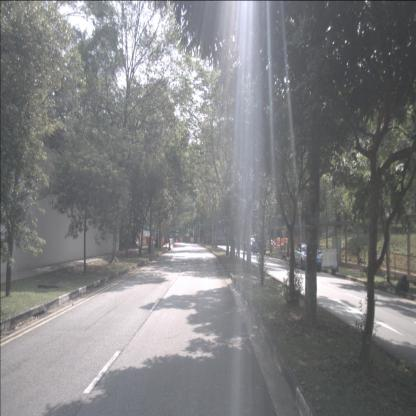movable_object-barrier: (318, 249, 338, 267), (146, 237, 155, 245), (156, 238, 162, 246), (168, 240, 172, 250), (170, 240, 173, 249)
vehicle-car: (292, 242, 322, 273), (244, 237, 256, 252)
vehicle-truck: (252, 234, 267, 254)
